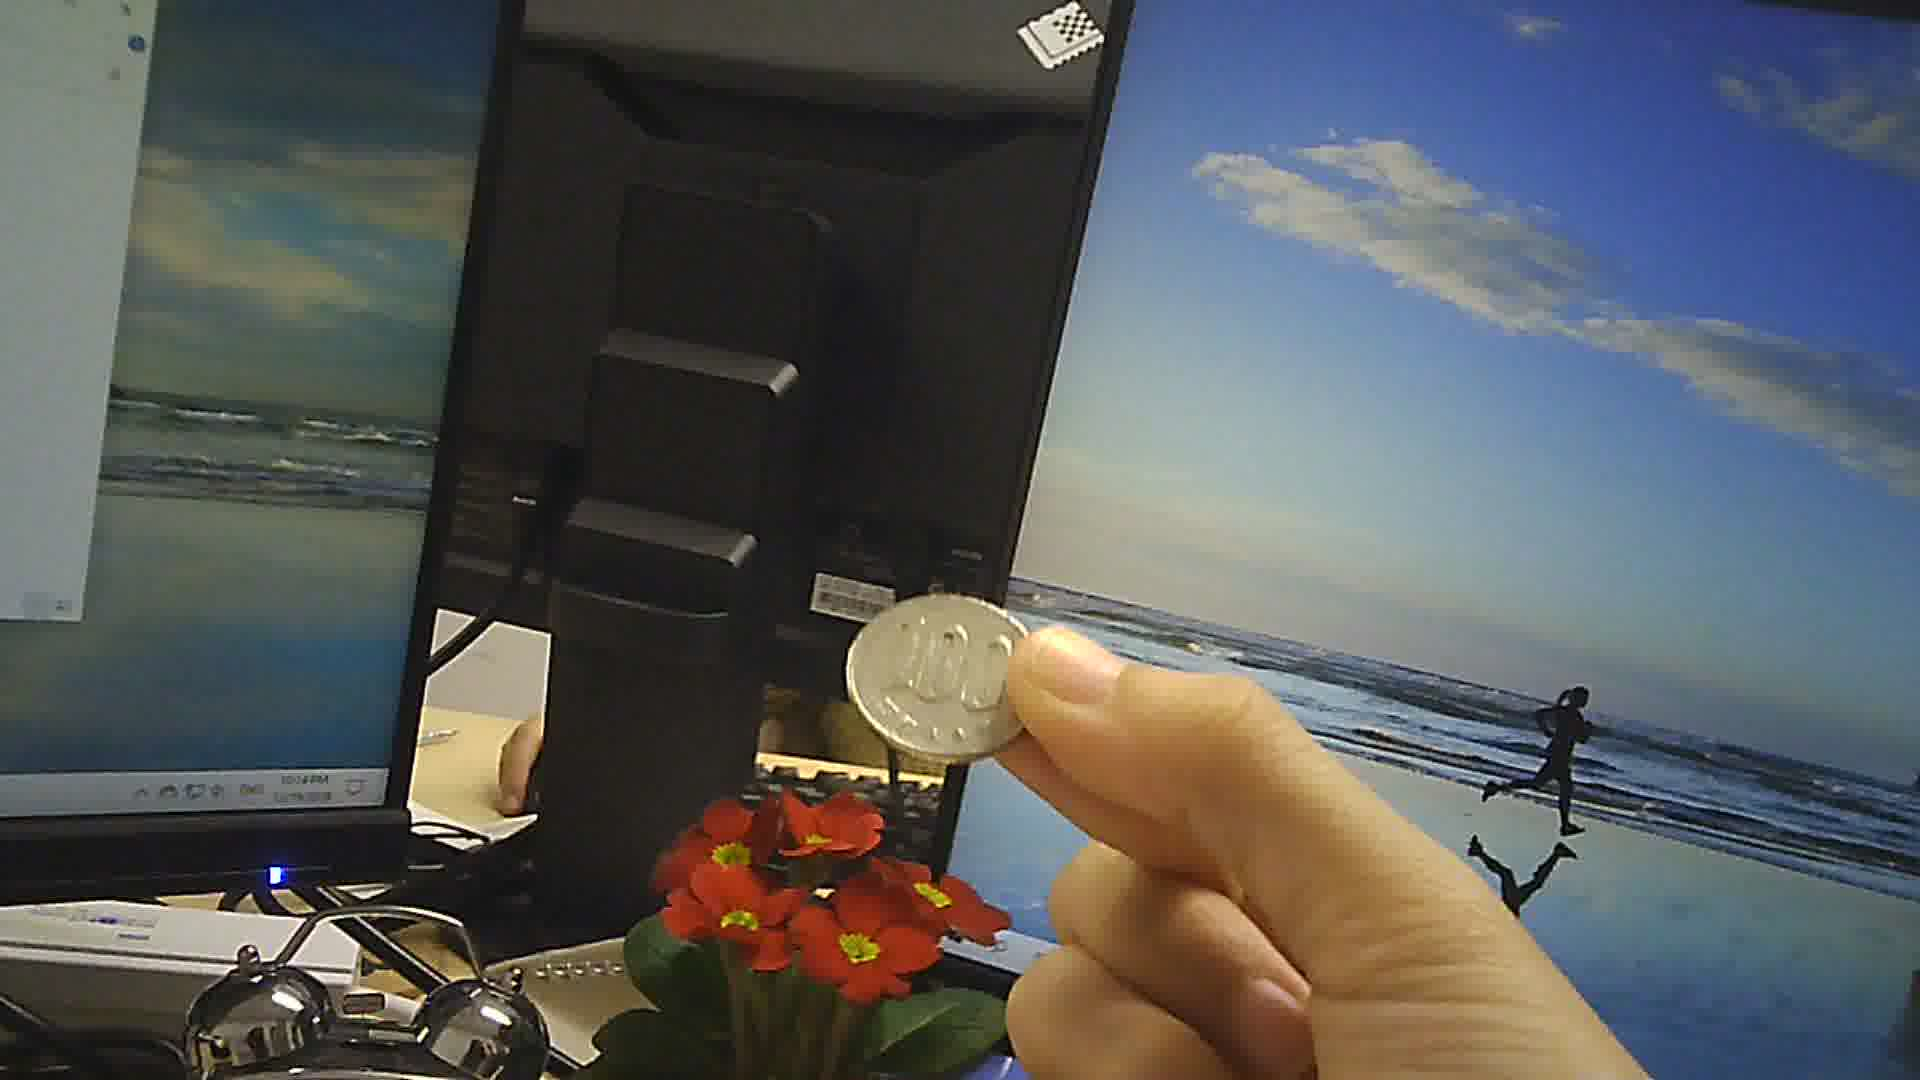100 Yen: (837, 588, 1047, 770)
